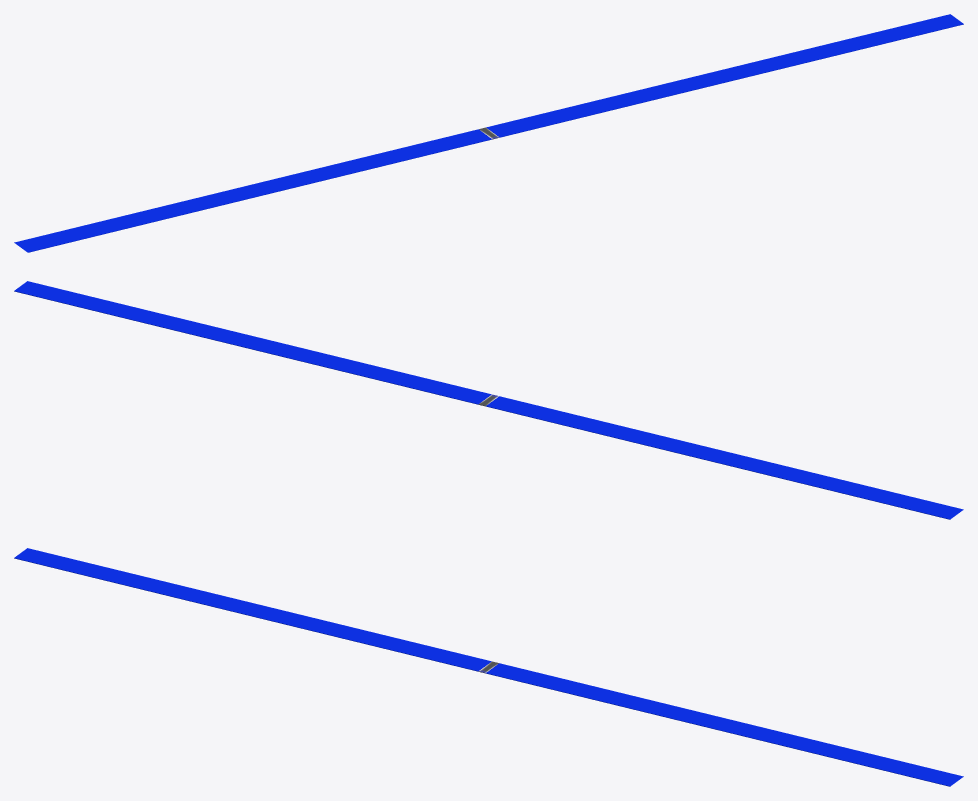
3 views of the same model, one above another, from view 1: azimuth 30°, elevation 25°; view 2: azimuth 150°, elevation 25°; view 3: azimuth 330°, elevation 25° (orthographic).
Parts seen in each view (by area): view 1: Cube.001; view 2: Cube.001; view 3: Cube.001.
Part boxes in pixels (left/top/right/bottom): Cube.001: left=14, top=14, right=963, bottom=252; Cube.001: left=14, top=281, right=963, bottom=519; Cube.001: left=14, top=548, right=963, bottom=786.
Size of the model in its own units: 40 by 0.0197 by 1.
1 material, 1 textured.
